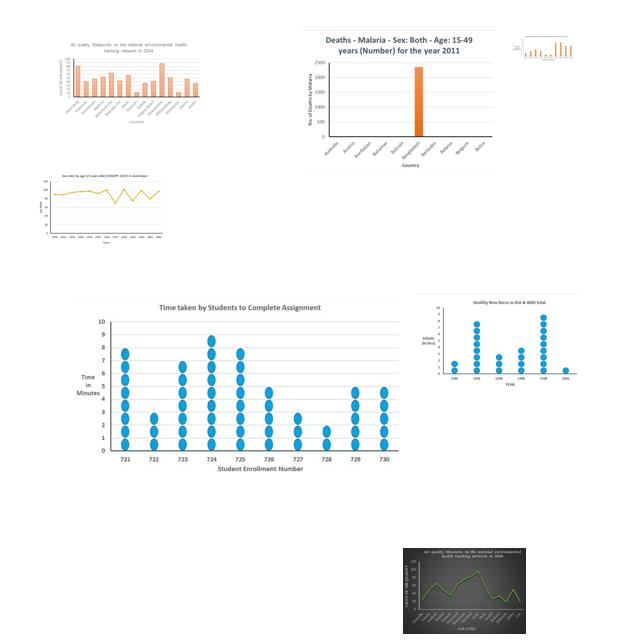Graph: (74, 298, 403, 475), (301, 30, 497, 175), (416, 294, 581, 391), (55, 40, 202, 129), (403, 548, 526, 634), (37, 171, 166, 247), (511, 35, 574, 62)
